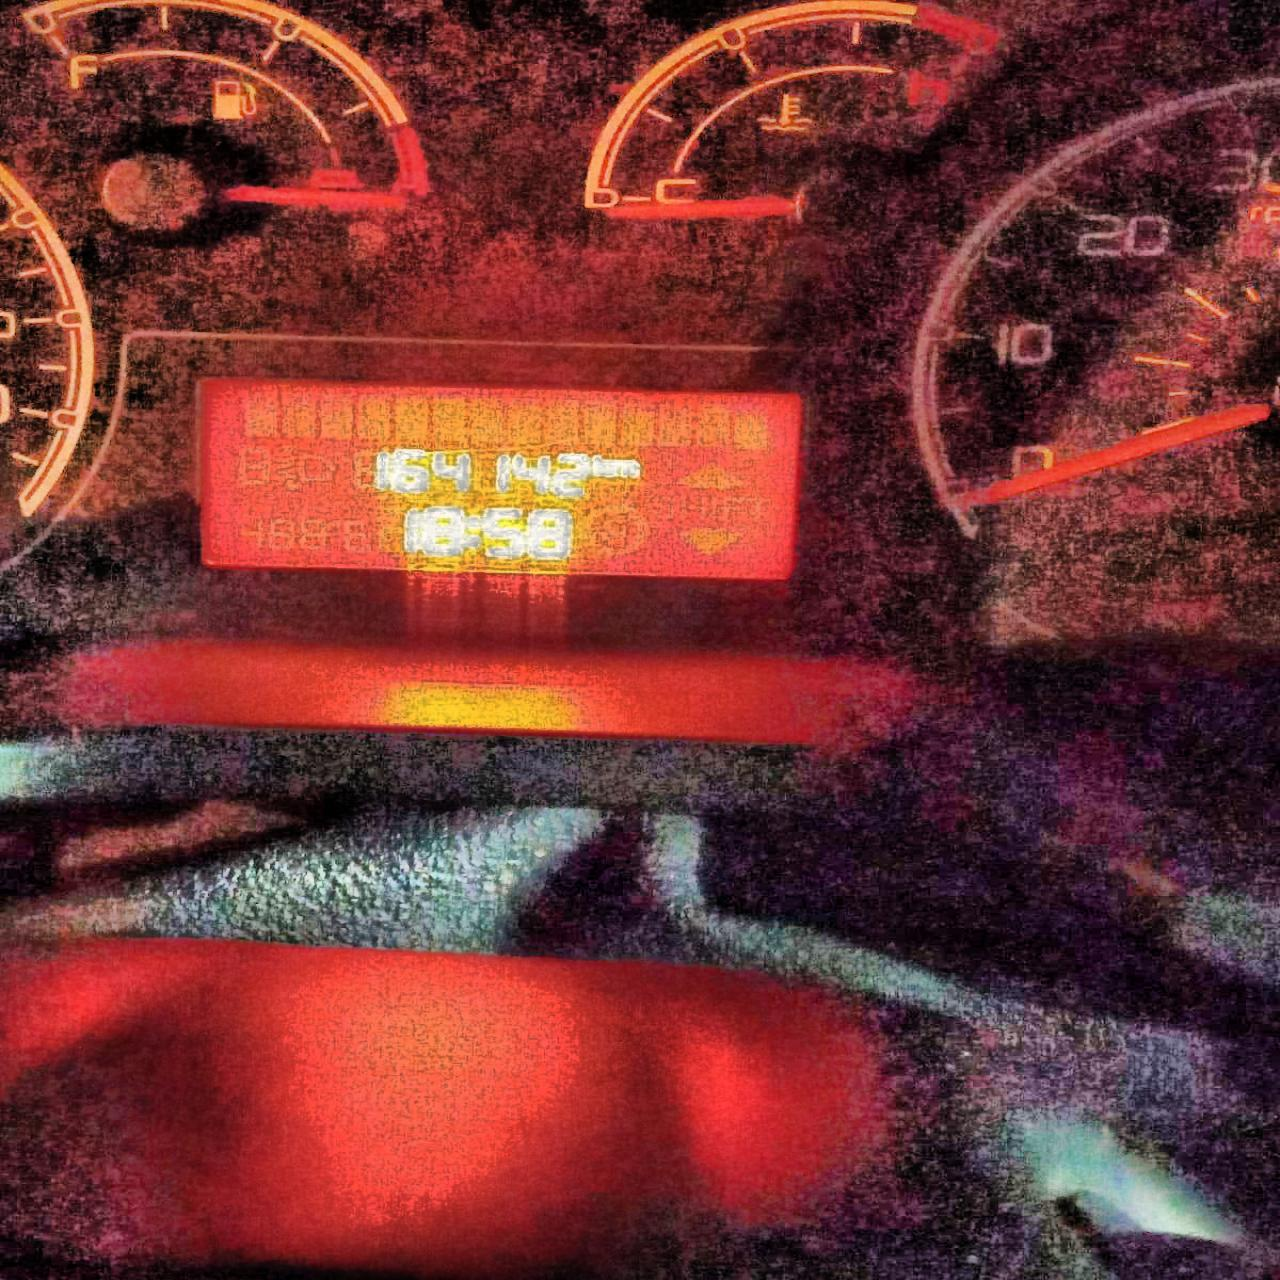1: (492, 449, 511, 497), (402, 503, 417, 558), (374, 445, 389, 499)
2: (550, 450, 591, 499)
4: (430, 449, 471, 495), (511, 450, 550, 496)
5: (483, 503, 525, 560)
6: (389, 445, 429, 497)
8: (418, 503, 463, 558), (526, 505, 571, 559)
X: (463, 512, 482, 554), (613, 456, 645, 481), (592, 449, 611, 478)
odometer: (200, 376, 803, 581)
